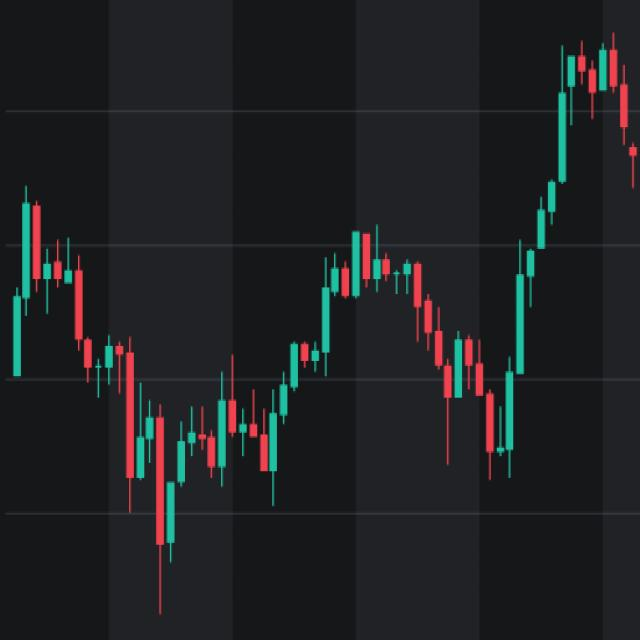Resistance-breakout: (264, 9, 595, 509)
